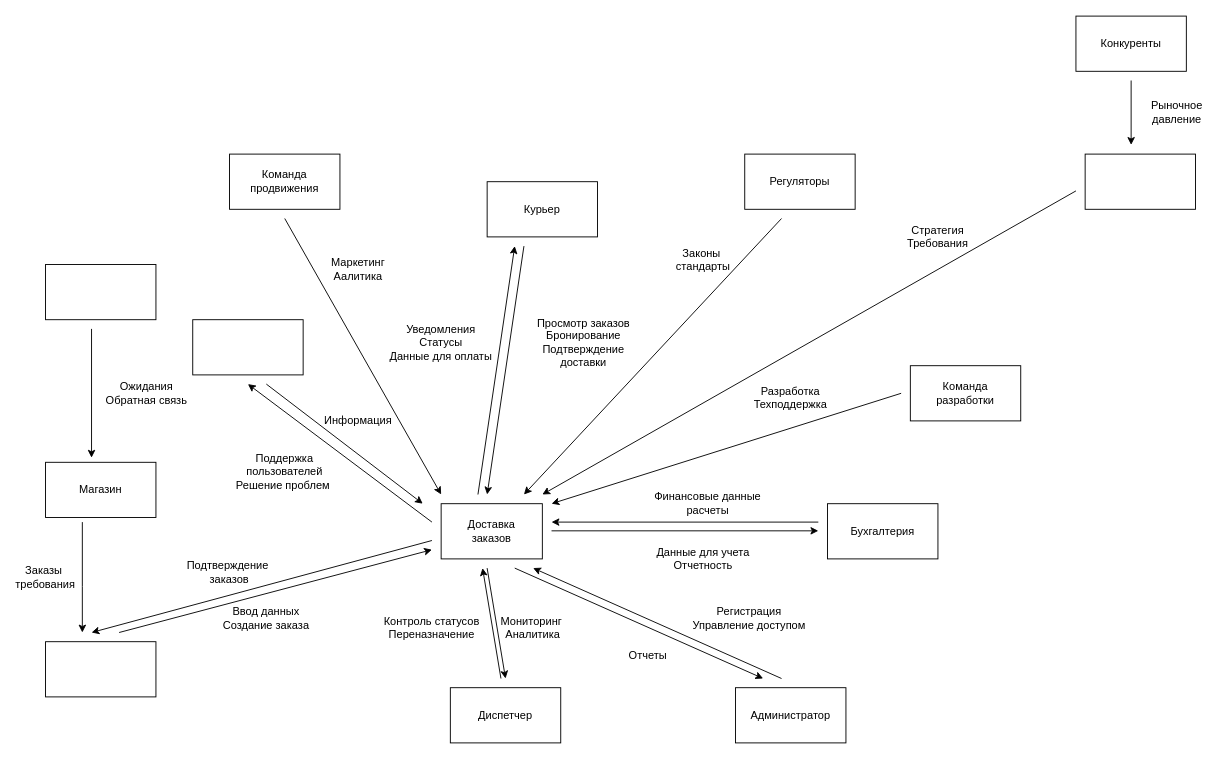
This 1221x759 diagram has some shape labels left out. The centre of each missing label's shape, as x and y in pixels:
"Клиенты" belongs at (100,292).
"Команда студентов" belongs at (1140,181).
"Оператор" belongs at (100,669).
"Служба поддержки" belongs at (247,347).
